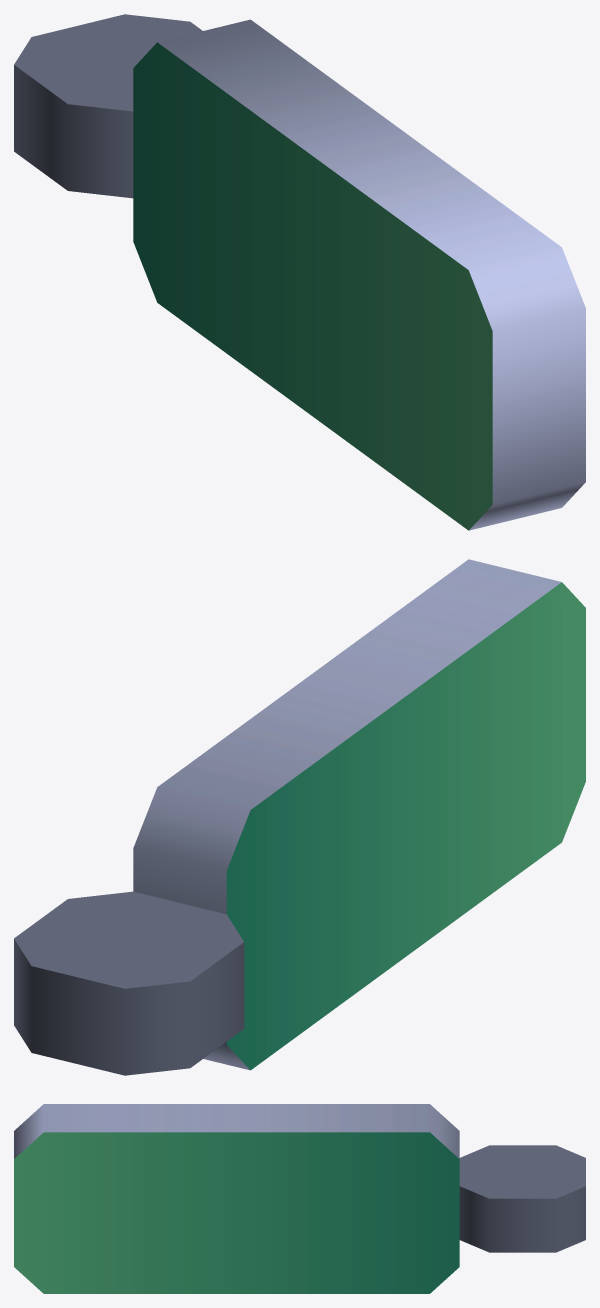
Rendered from road-sign-object-street.glb.
3 renders of one model, top to bottom at view 1: azimuth 30°, elevation 25°; view 2: azimuth 150°, elevation 25°; view 3: azimuth 270°, elevation 25°, orthographic. The views are drawn at different scales.
Visible parts, largest first — view 1: road-sign-object-street; view 2: road-sign-object-street; view 3: road-sign-object-street.
Part boxes in pixels (x1,y1,x2,y2): road-sign-object-street: [14, 14, 585, 530]; road-sign-object-street: [14, 559, 585, 1075]; road-sign-object-street: [14, 1104, 585, 1293].
Size of the model in its own units: 0.0425 by 0.06 by 0.1925.
Materials: 1 (1 with a texture image).
